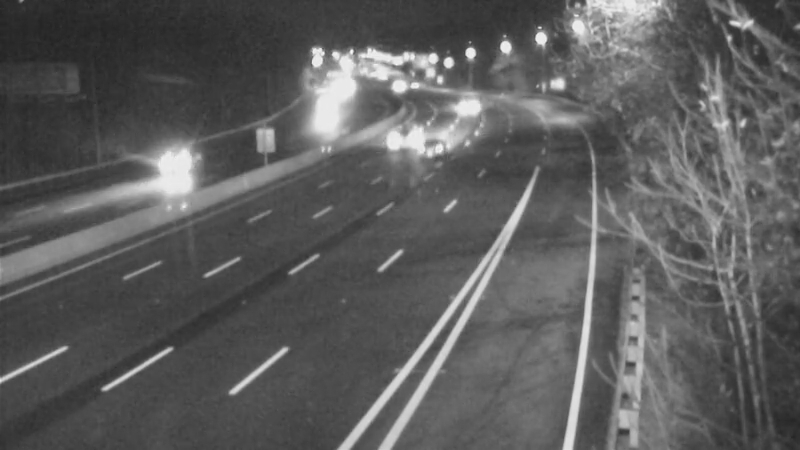vehicle: (398, 112, 478, 192), (138, 122, 218, 202), (369, 62, 419, 112), (436, 81, 486, 131), (380, 107, 430, 157), (296, 98, 346, 148)
